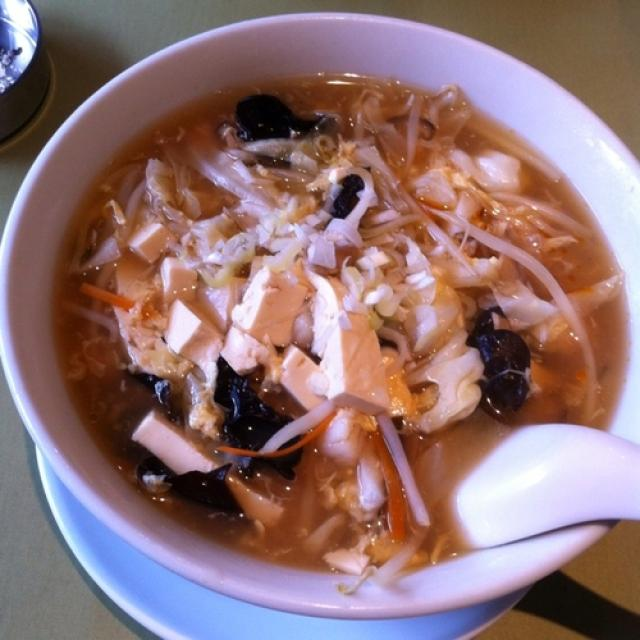熟制海鲜: (8, 113, 640, 594)
